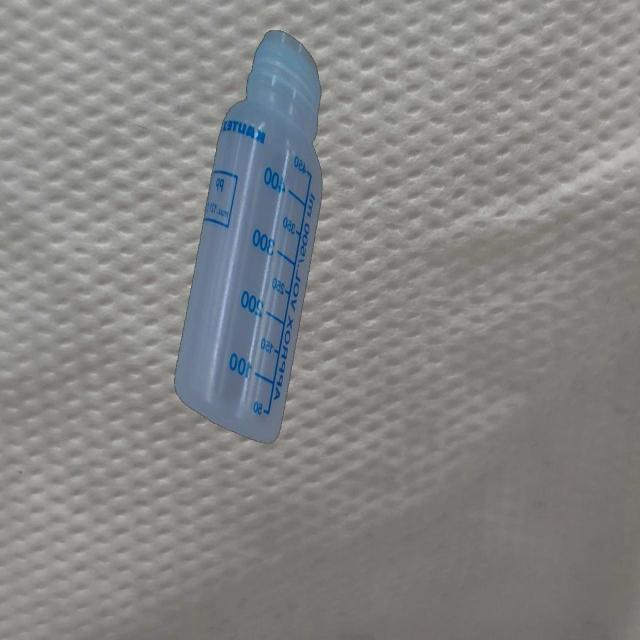bottle: (172, 24, 322, 448)
